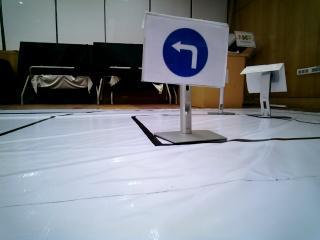left: (145, 21, 225, 87)
